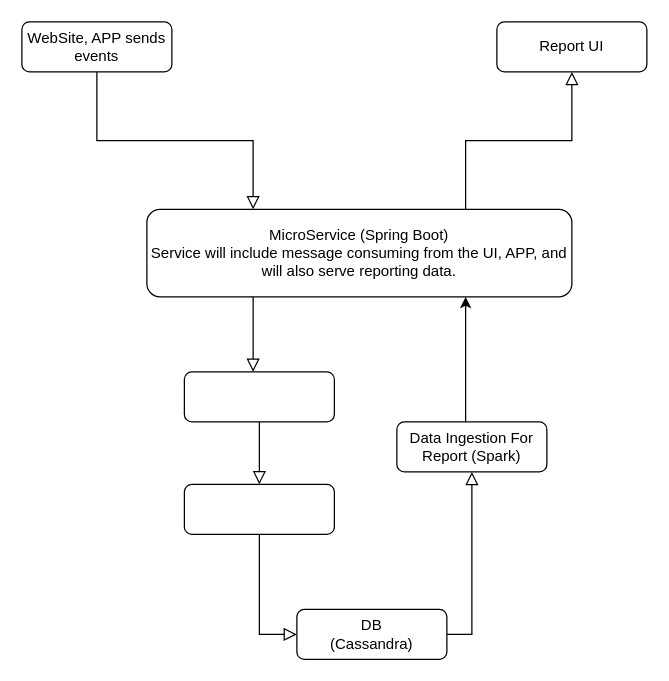
The diagram is 669 pixels wide and 681 high, and some of its shapes have lost their labels. The centre of each missing label's shape, as x and y in pixels:
"Data Ingestion (Spark)" belongs at point 258,508.
"MQ (Kafka)" belongs at point 258,396.
